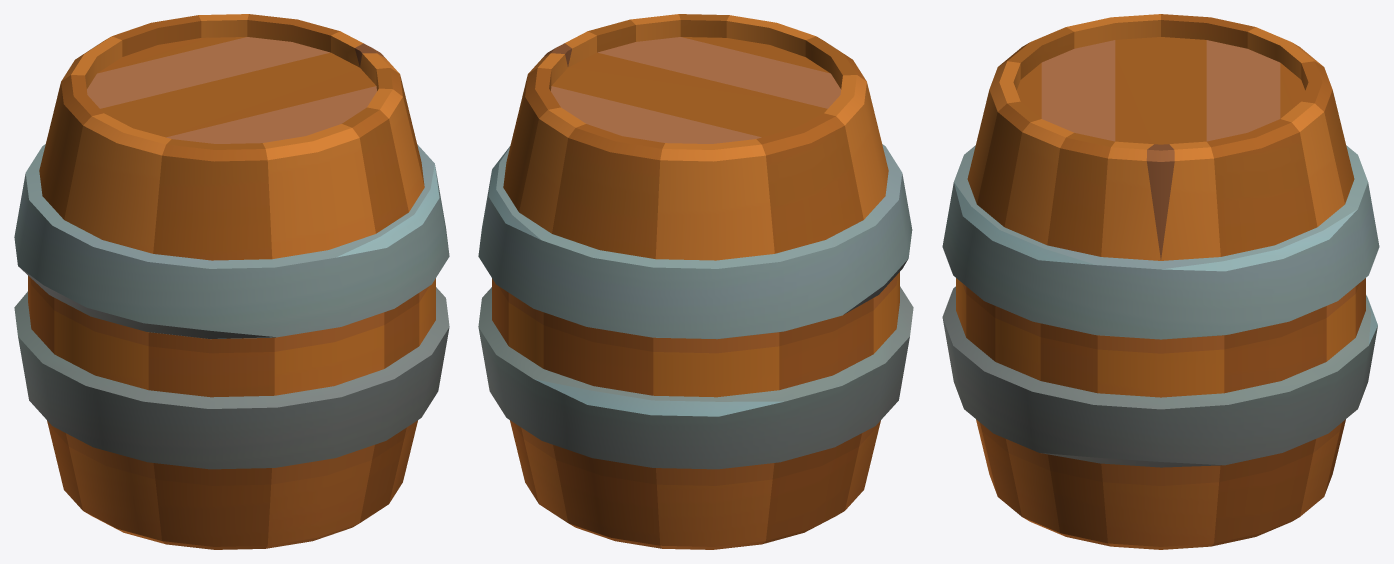
The model's file is drop-village-22.glb.
The picture shows the model from 3 angles, left to right: view 1: azimuth 30°, elevation 25°; view 2: azimuth 150°, elevation 25°; view 3: azimuth 270°, elevation 25°; orthographic projection.
Visible parts, largest first — view 1: piece; view 2: piece; view 3: piece.
Boxes of the visible parts, left/top/right/bottom form: piece: left=14, top=14, right=449, bottom=549; piece: left=478, top=14, right=913, bottom=549; piece: left=942, top=14, right=1379, bottom=549.
Size of the model in its own units: 1.23 by 1.24 by 1.23.
Materials: 1 (1 with a texture image).
